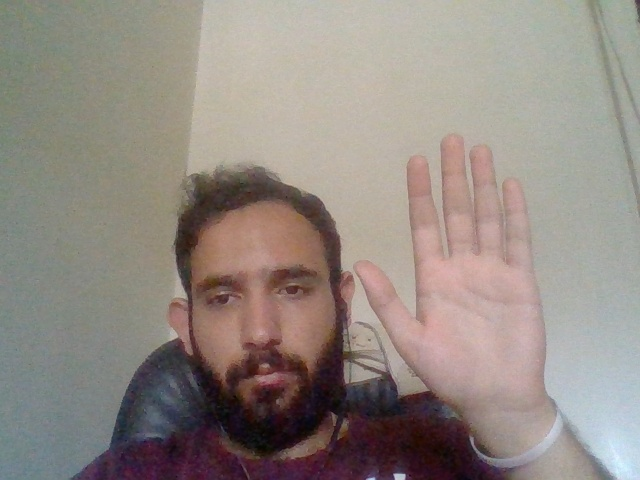Goodbye: (338, 131, 583, 413)
